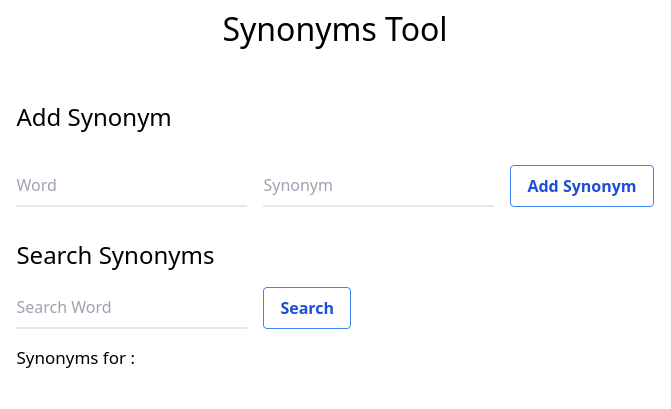
Test: Home Component › displays an error when searchWord is empty during search
The image size is (671, 409).
// Try searching without a word
Click the button "Search" at (307, 308), box [263,287,351,329]
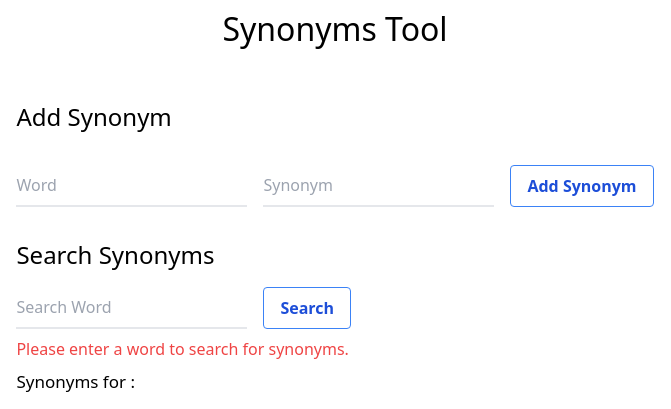
expect the text "Please enter a word to search for synonyms." is shown: met, box [16,338,349,360]
